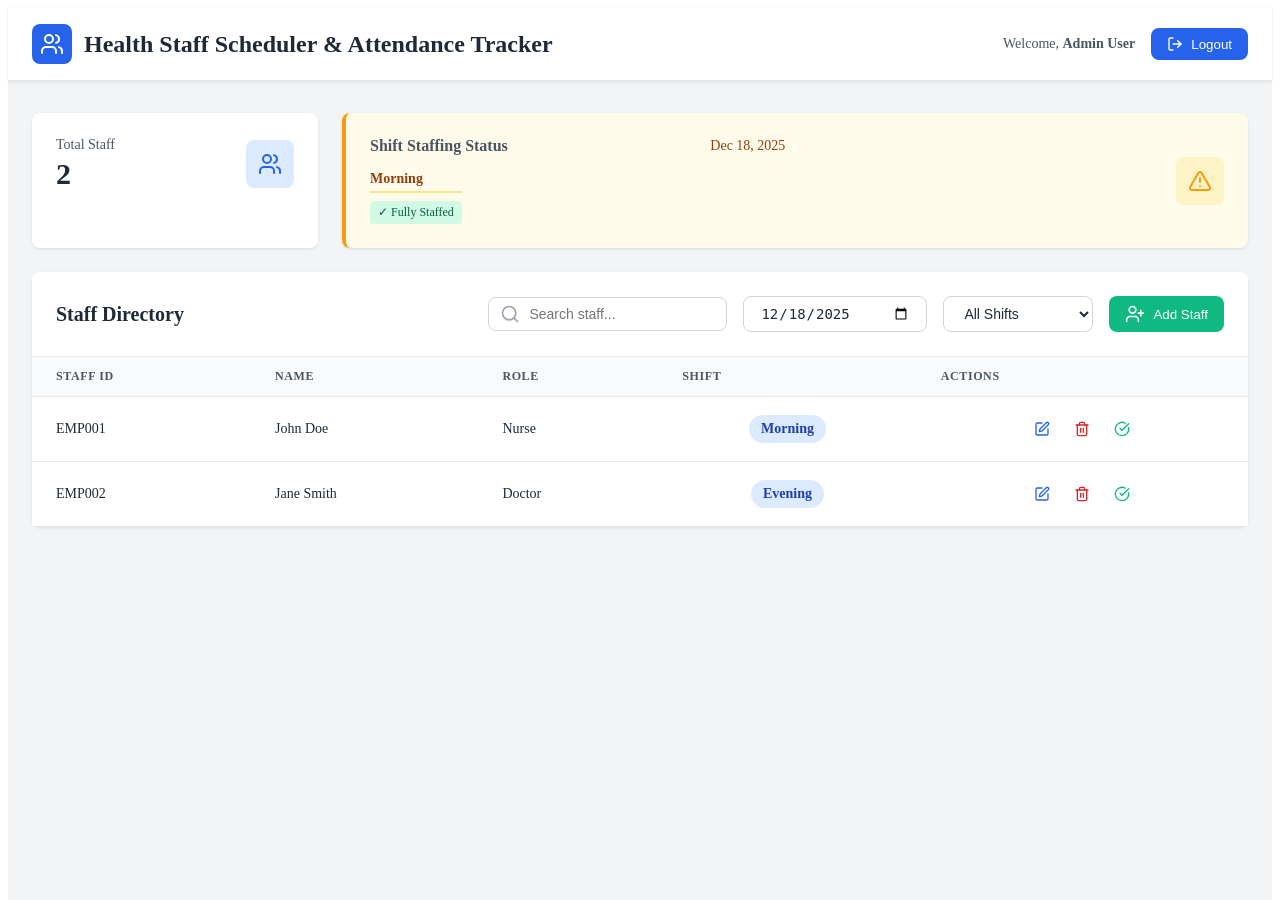
Scenario: Dashboard Component › filters staff by search query
This screenshot has width=1280, height=900.
Expected: the text "John Doe" is shown, [275, 421, 328, 437]
Expected: the text "Jane Smith" is shown, [275, 486, 337, 502]
Step 1. Type "John" into the field with placeholder "Search staff..." → (608, 314), box [488, 297, 727, 331]
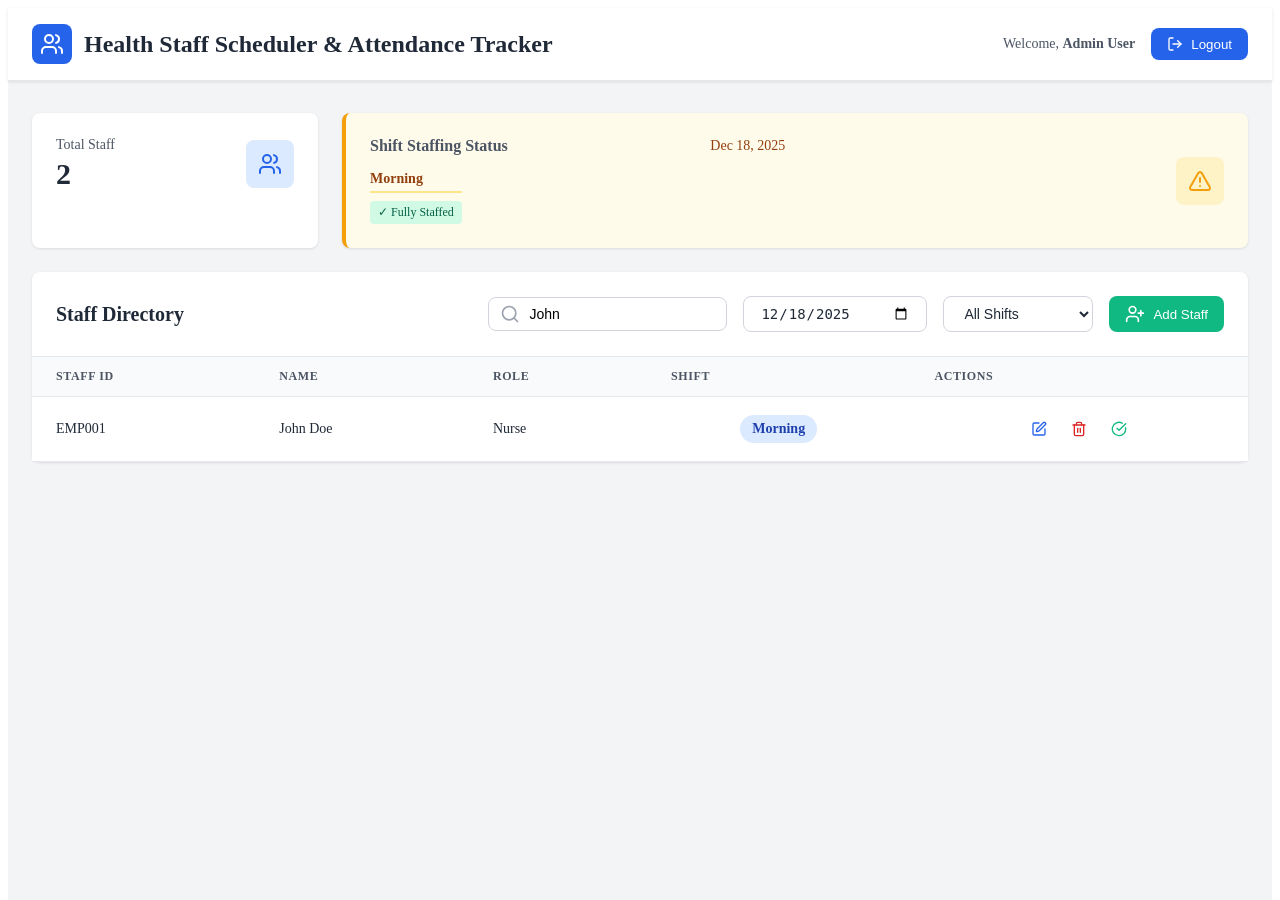
Expected: the text "John Doe" is shown, [279, 421, 332, 437]
Expected: the text "Jane Smith" is gone
